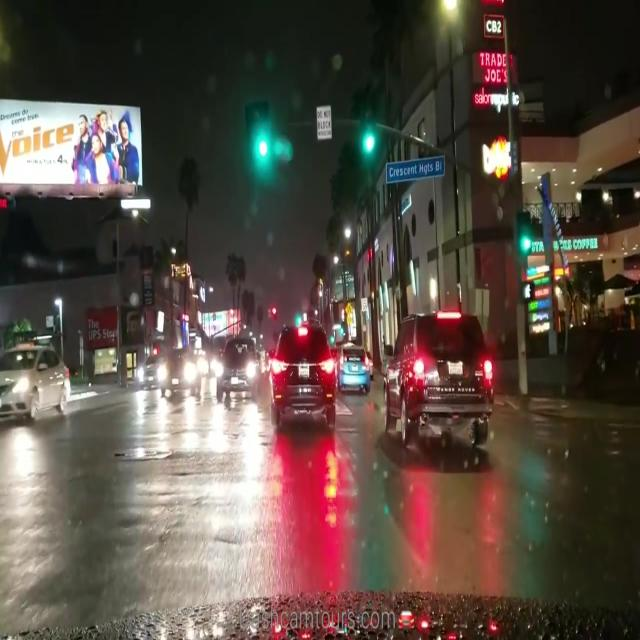Car: (382, 311, 489, 450), (272, 326, 337, 429), (0, 343, 67, 423), (216, 336, 258, 394), (159, 350, 198, 393), (338, 342, 367, 385)
